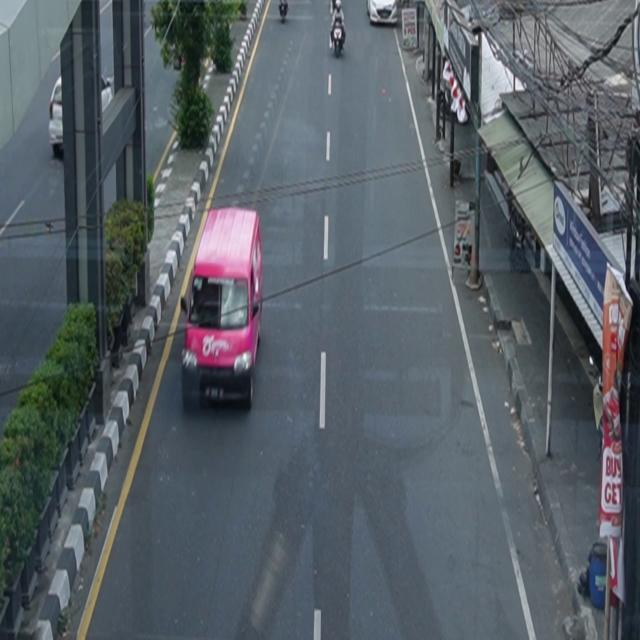bus: (181, 207, 264, 411)
car: (50, 74, 114, 160), (367, 1, 398, 26)
